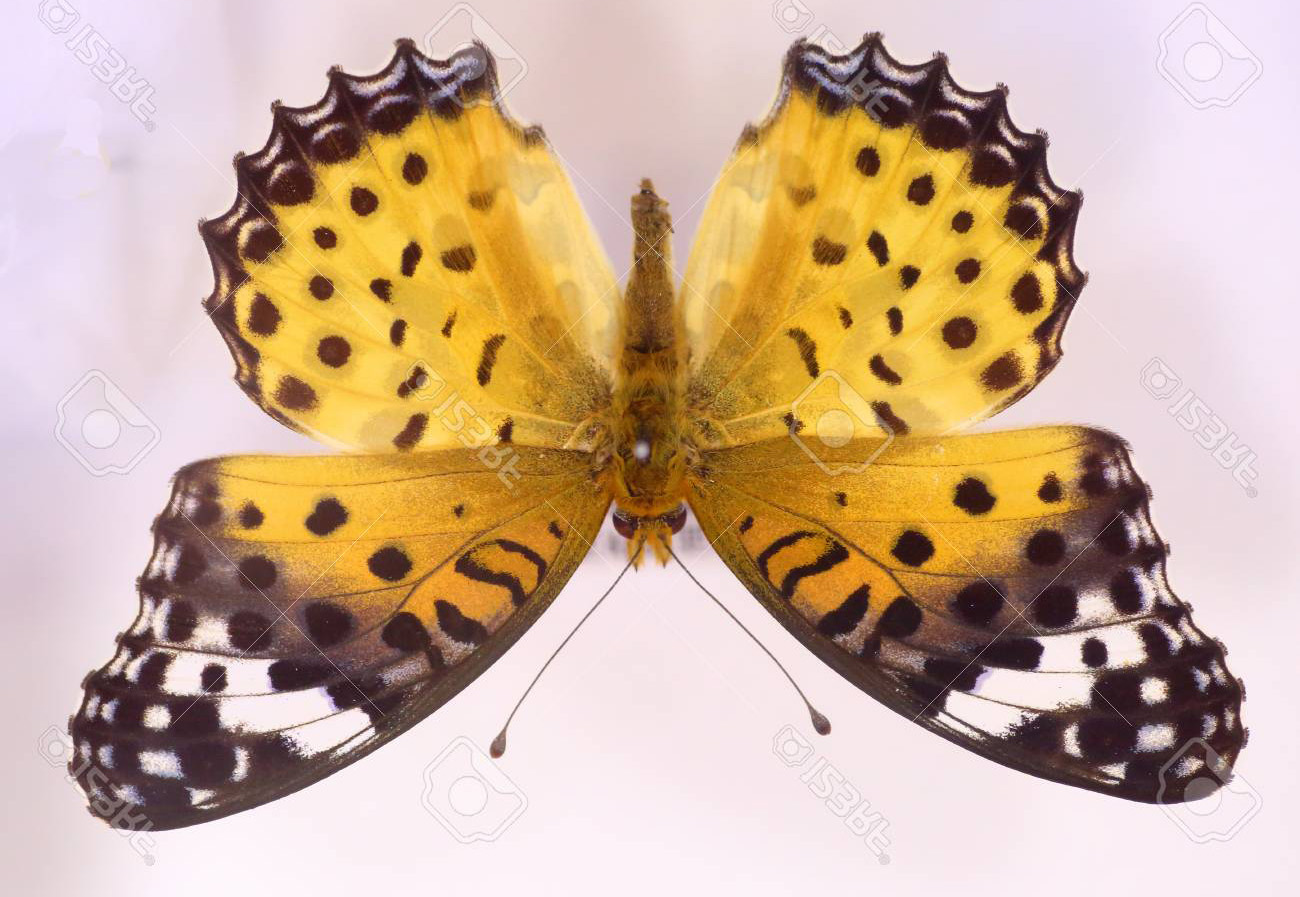Argyreus hyperbius: (79, 20, 1262, 841)
butterfly: (81, 22, 1264, 843)
